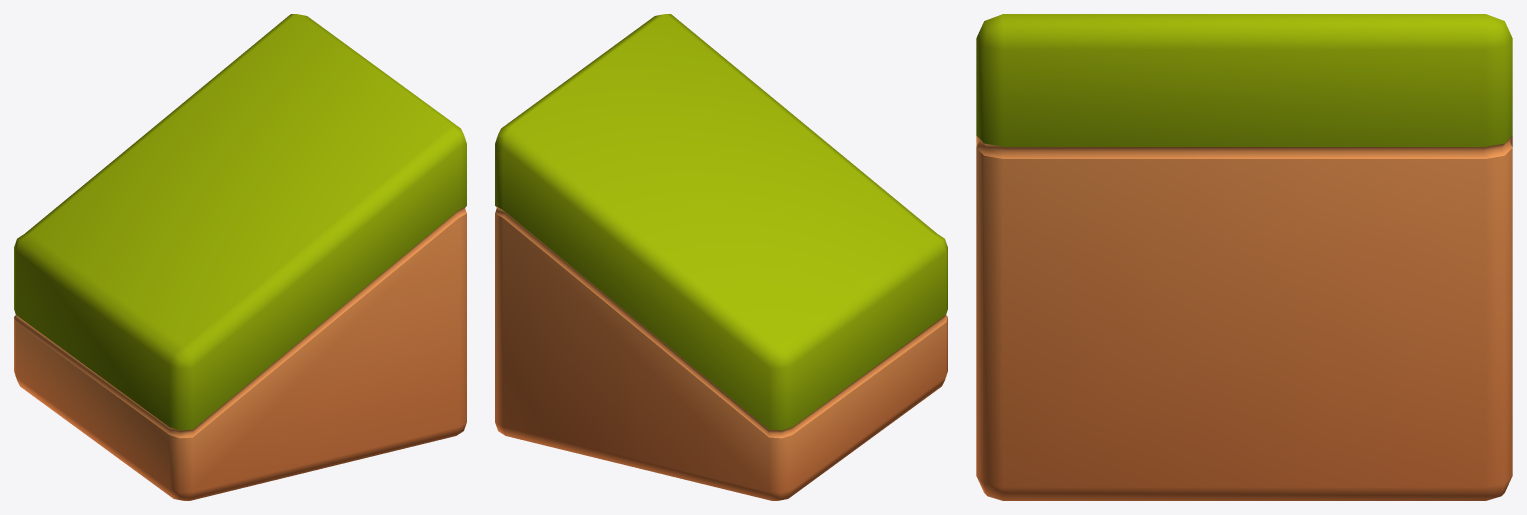
Rendered from 3D_Tile_Ground_Slope_01.fbx.
The picture shows the model from 3 angles, left to right: view 1: azimuth 30°, elevation 25°; view 2: azimuth 150°, elevation 25°; view 3: azimuth 270°, elevation 25°; orthographic projection. The views are drawn at different scales.
Parts seen in each view (by area): view 1: 3D_Tile_Ground_Slope_01; view 2: 3D_Tile_Ground_Slope_01; view 3: 3D_Tile_Ground_Slope_01.
Part boxes in pixels (<box>): 3D_Tile_Ground_Slope_01: <box>14,14,466,500</box>; 3D_Tile_Ground_Slope_01: <box>495,14,947,500</box>; 3D_Tile_Ground_Slope_01: <box>976,14,1512,500</box>.
Bounding box in the file's own units: 200 × 200 × 200.
